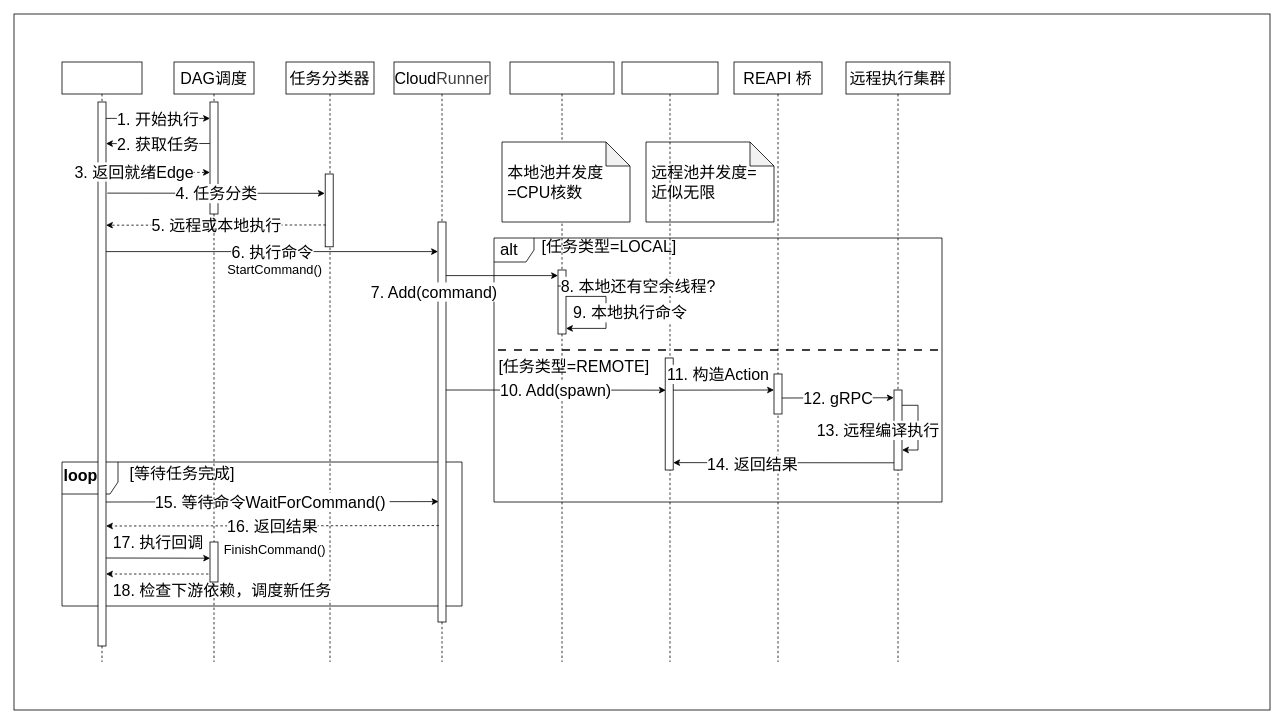
Some shapes in this 1284 by 724 pixel diagram are drawn without their labels. Here are the shapes that lost their labels. From the top down, the box of each, then its label:
(61, 61, 142, 662): Builder
(509, 61, 614, 662): 本地执行池
(621, 61, 718, 662): 远程执行池
